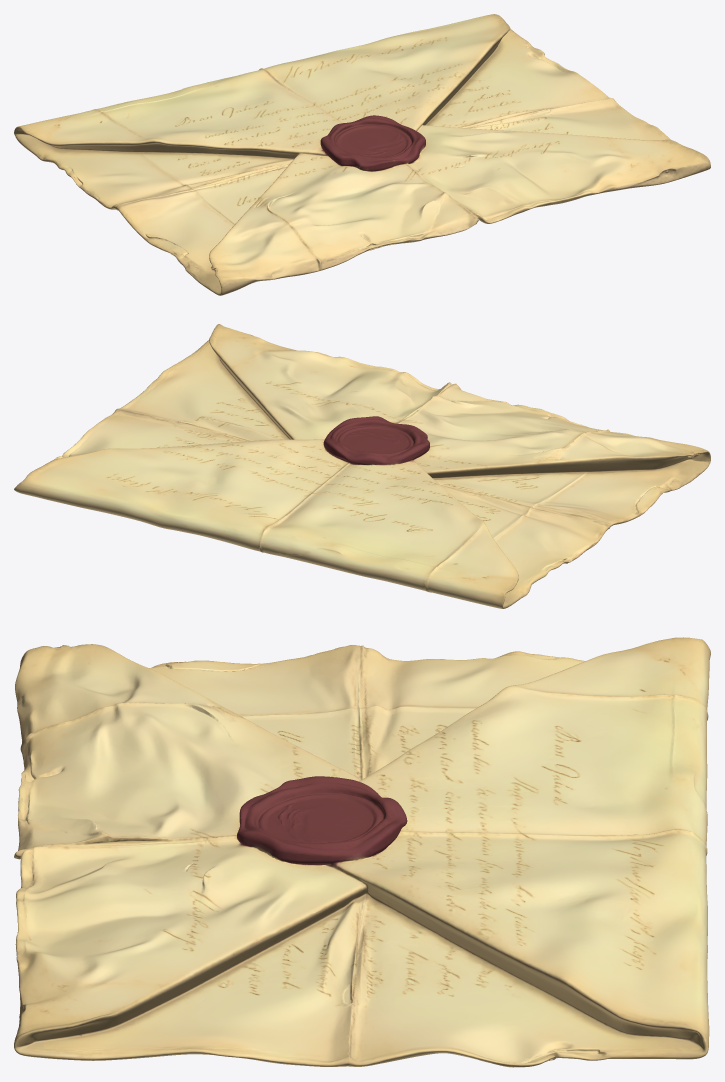
Rendered from father_letter.glb.
3 views of the same model, one above another, from view 1: azimuth 30°, elevation 25°; view 2: azimuth 150°, elevation 25°; view 3: azimuth 270°, elevation 25° (orthographic). The views are drawn at different scales.
Parts seen in each view (by area): view 1: mesh; view 2: mesh; view 3: mesh.
Part boxes in pixels (left/top/right/bottom): mesh: left=14, top=14, right=710, bottom=295; mesh: left=14, top=324, right=710, bottom=608; mesh: left=14, top=637, right=710, bottom=1067.
Size of the model in its own units: 0.3 by 0.0226 by 0.2198.
1 material, 1 textured.
